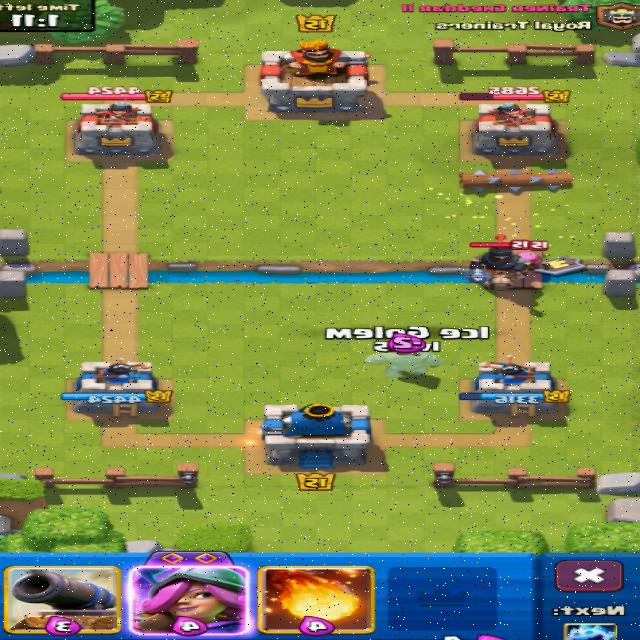Enemy-DarkPrince: (467, 234, 531, 290)
Enemy-Firecracker: (520, 241, 554, 271)
Enemy-KingTower: (261, 40, 372, 113)
Enemy-PrincessTower: (75, 102, 161, 161), (473, 103, 557, 156)
Player-KingTower: (261, 403, 371, 469)
Player-PrincessTower: (460, 355, 570, 414), (63, 362, 171, 416)
